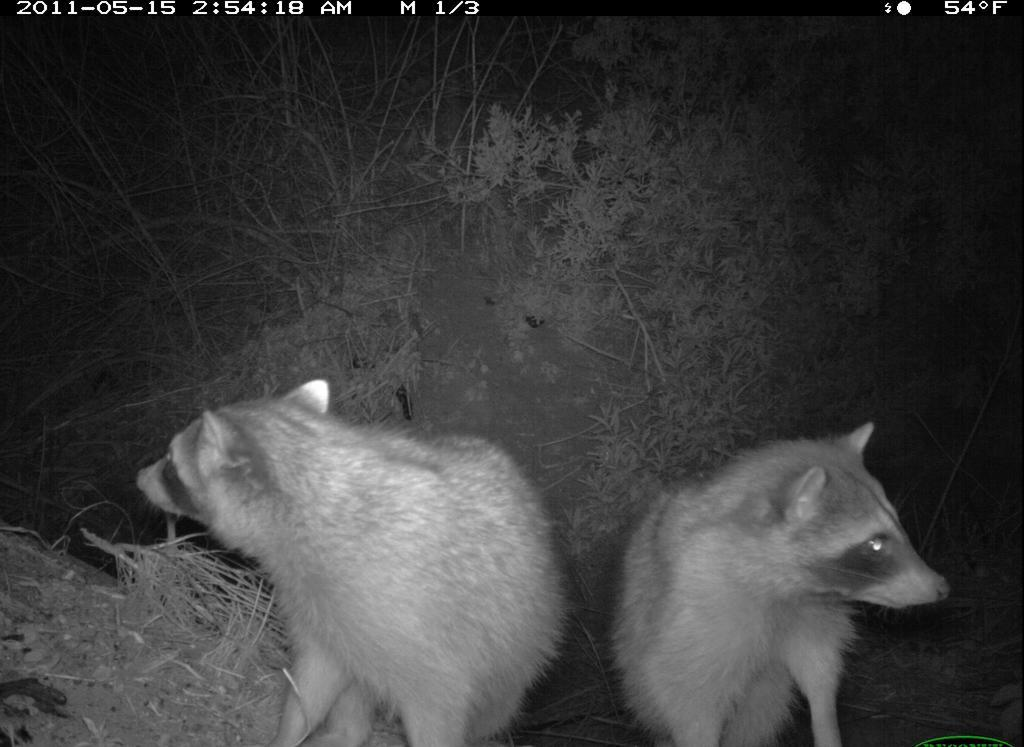raccoon: (135, 379, 566, 747), (602, 411, 957, 747)
